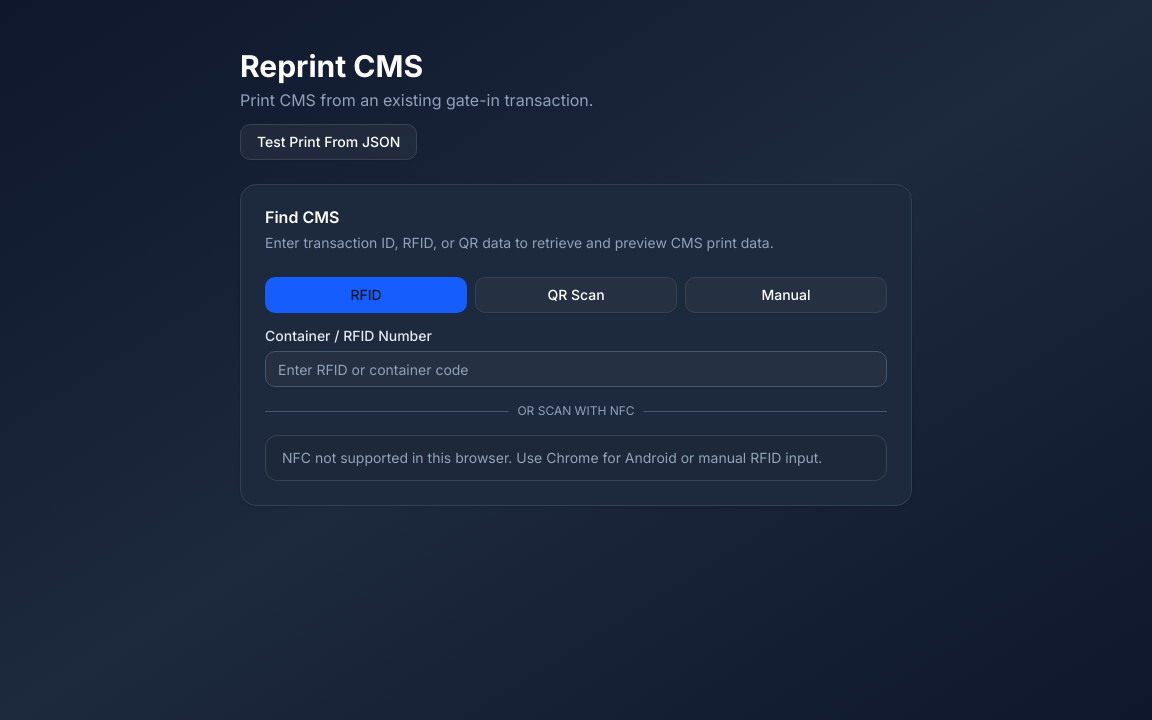
Test: ReprintPage › shows a clear error when ReprintCMS returns no cms payload
The image size is (1152, 720).
Switch to Manual mode first (default is now RFID)
Click the button "Manual": [786, 295] box [685,277,887,313]
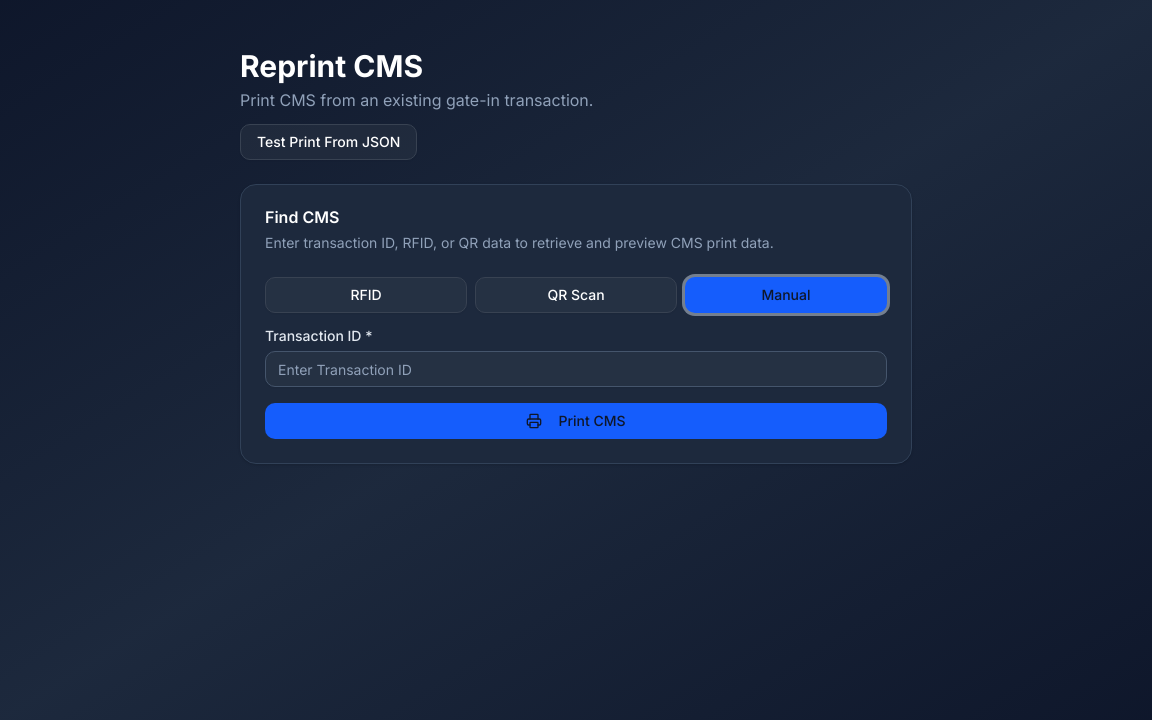
In the field labelled "Transaction ID *": [576, 369] box [265,351,887,387], type "1520203"
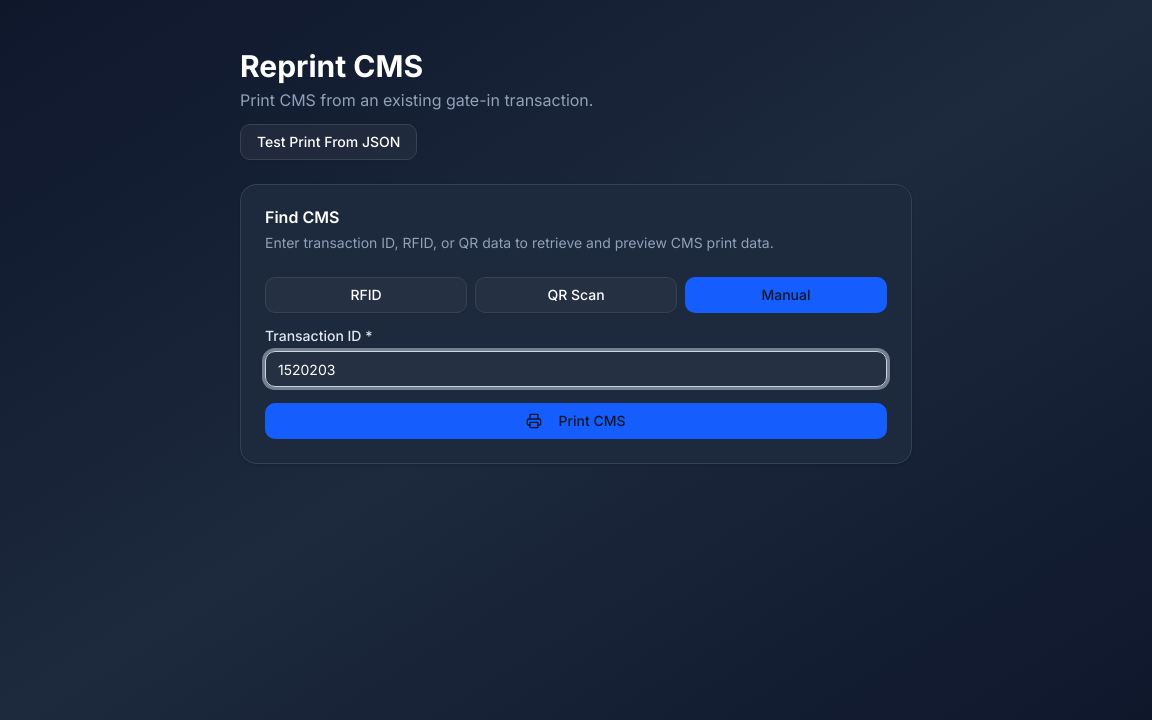
Click the button "Print CMS": [576, 421] box [265,403,887,439]
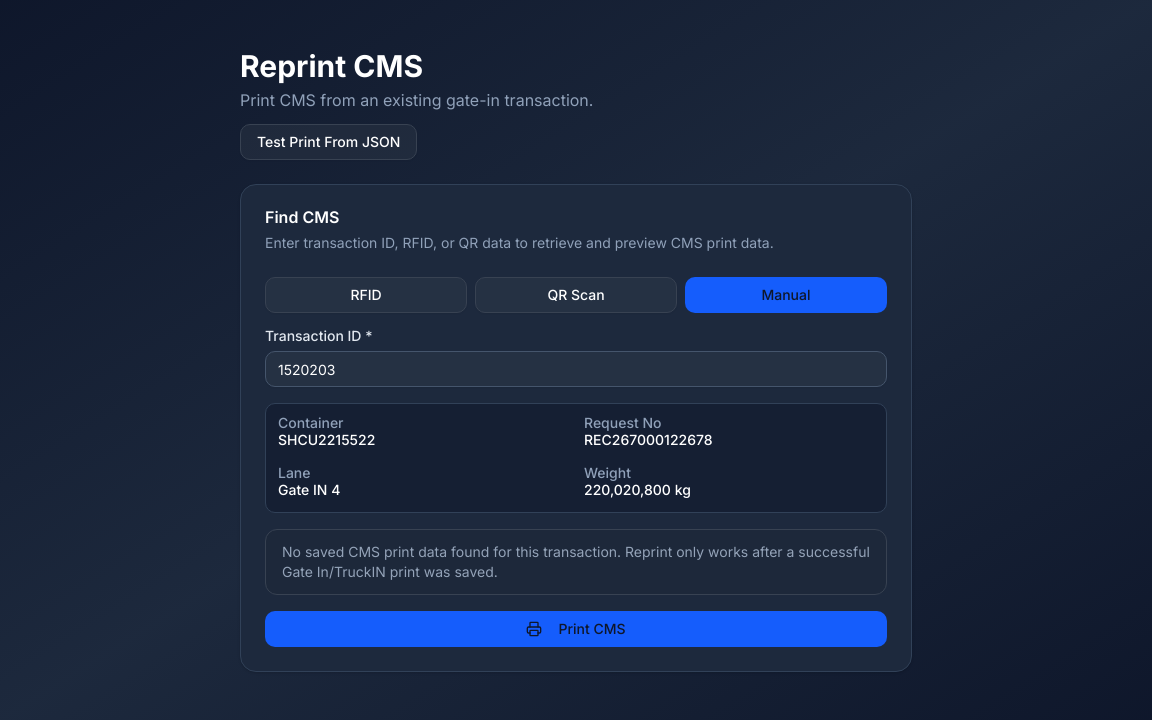
Expected: the text "No saved CMS print data found for this transaction. Reprint only works after a successful Gate In/TruckIN print was save" is shown, [282,543,870,580]
